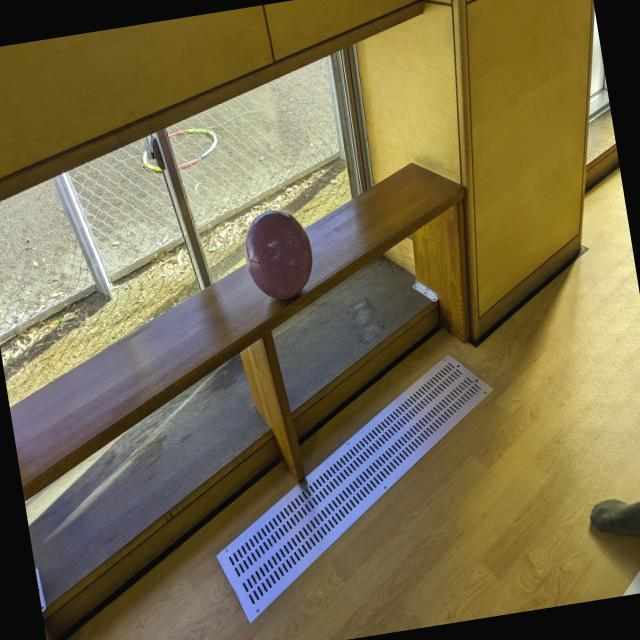purple_ball: (238, 204, 320, 305)
